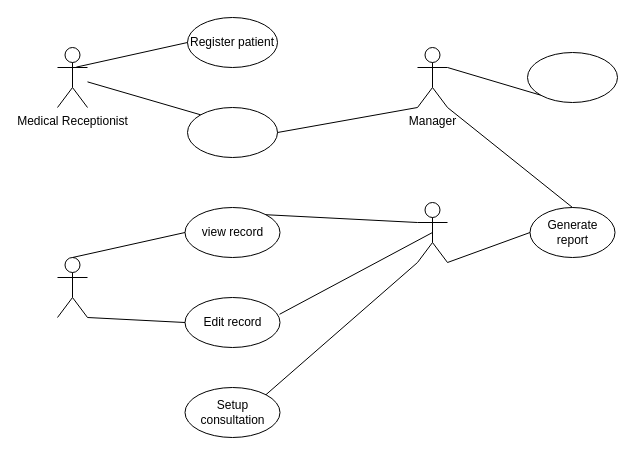
This 635x455 diagram has some shape labels left out. Each missing label, with the centre of its shape:
"Doctor" goes at point (432, 232).
"Export statistics" goes at point (572, 77).
"Nurse" goes at point (72, 287).
"view personal info" goes at point (232, 132).
